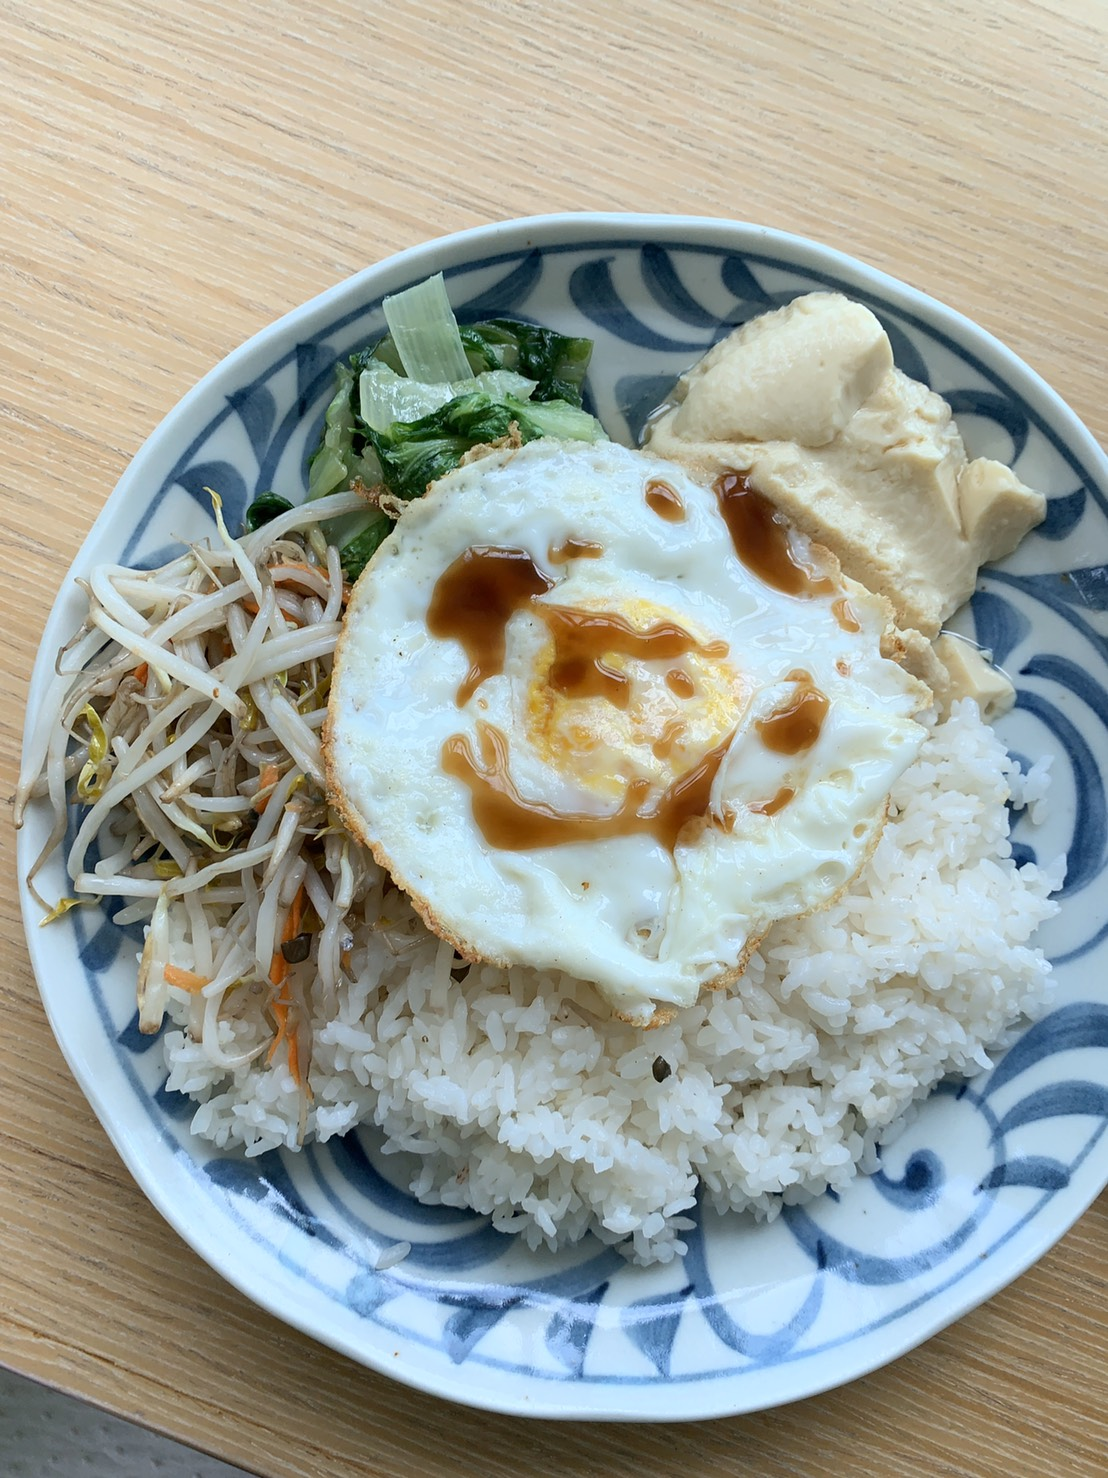fried_eggs: (383, 482, 859, 947)
mung_bean_sprouts: (95, 543, 334, 946)
rice: (361, 941, 946, 1185)
